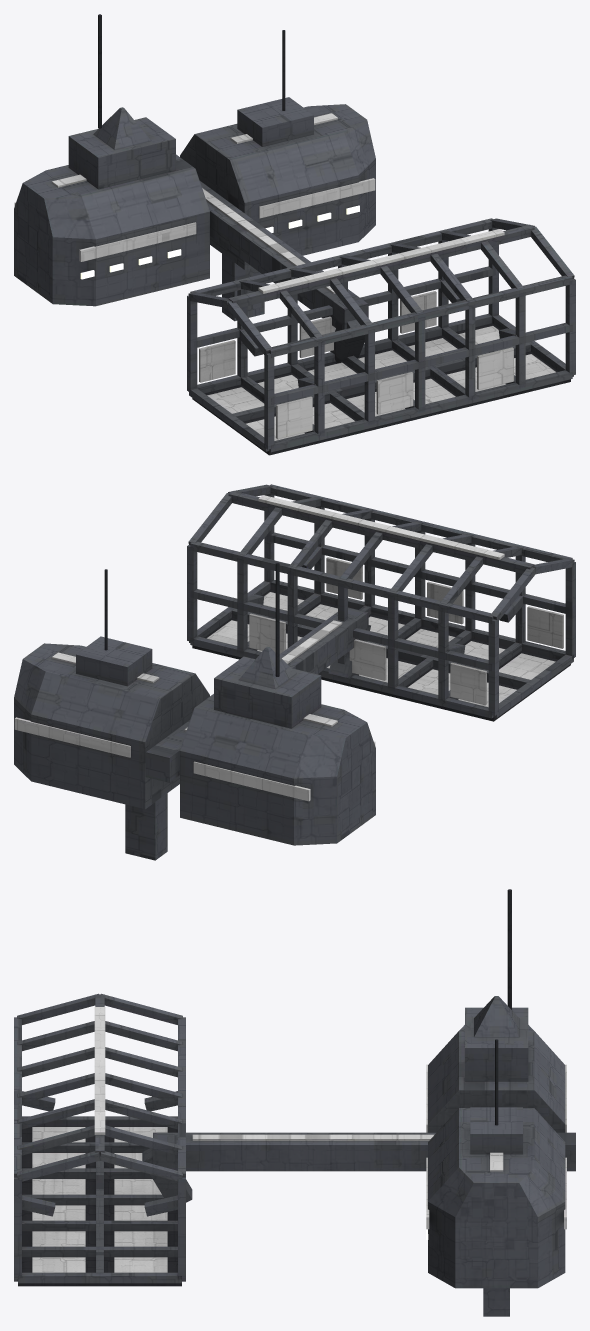
Rendered from rebel-dock-2.glb.
3 views of the same model, one above another, from view 1: azimuth 30°, elevation 25°; view 2: azimuth 150°, elevation 25°; view 3: azimuth 270°, elevation 25° (orthographic). The views are drawn at different scales.
Visible parts, largest first — view 1: DockReb2; view 2: DockReb2; view 3: DockReb2.
Part boxes in pixels (x1=…): DockReb2: x1=14, y1=14, x2=575, y2=455; DockReb2: x1=14, y1=484, x2=575, y2=860; DockReb2: x1=14, y1=889, x2=575, y2=1316.
Size of the model in its own units: 1.5 by 1.45 by 2.12.
4 materials, 4 textured.
